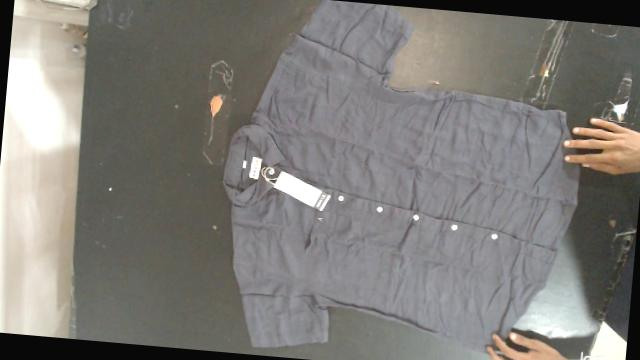new-garment: (223, 0, 579, 349)
